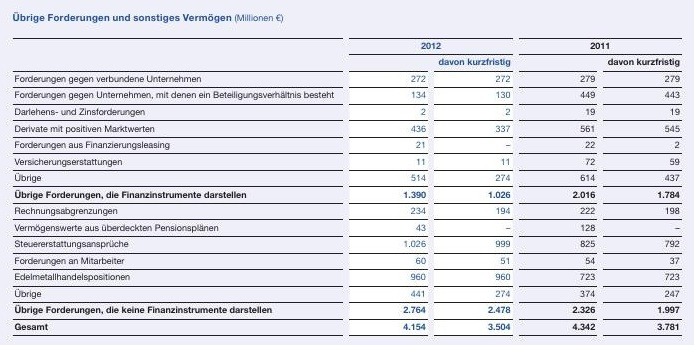table: (0, 0, 694, 345)
